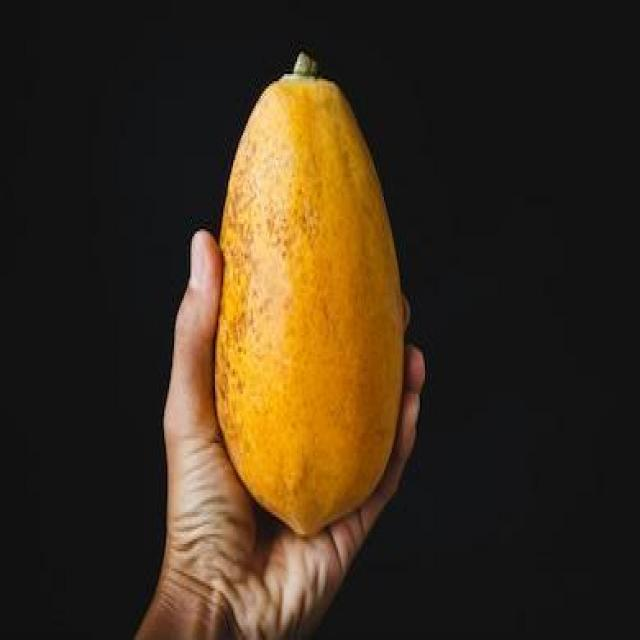Pepaya rippen: (209, 74, 402, 540)
